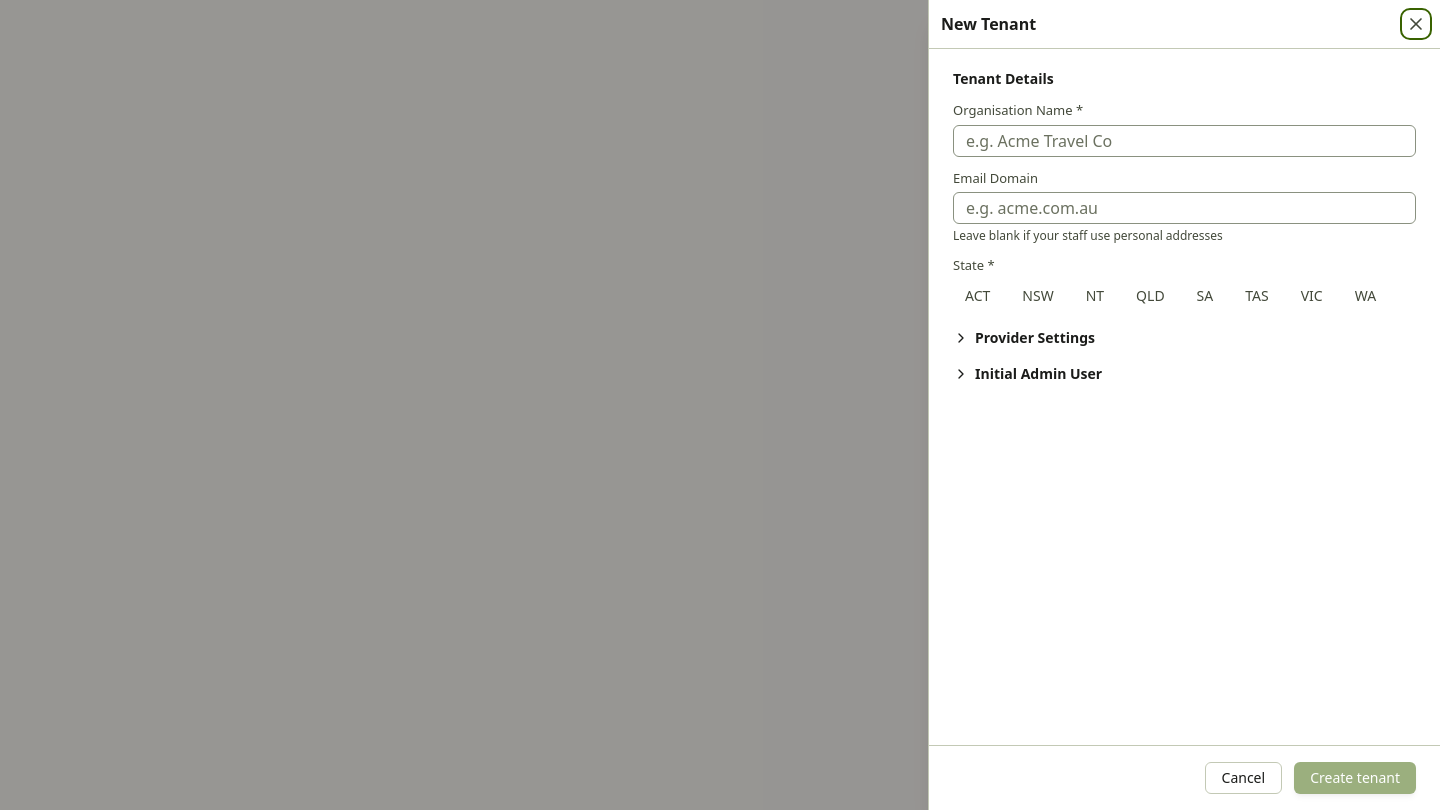
Test case: TenantFormPanel: the first user's password › will not create with a typed password under 12 characters, and says so
Type "Brightside Care" into the field with placeholder "e.g. Acme Travel Co" at (1184, 140), box x1=953 y1=124 x2=1416 y2=156
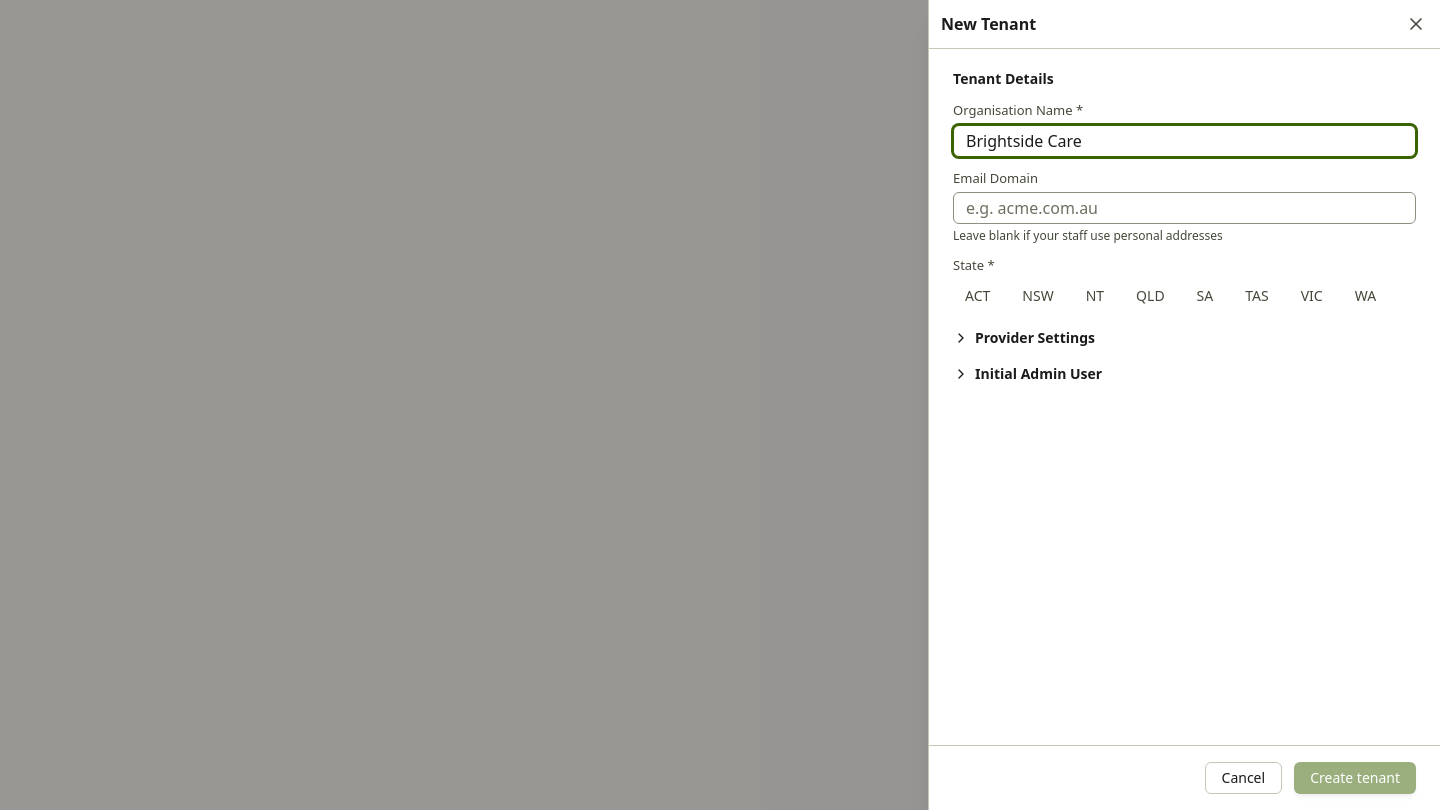
Type "brightside.example.com" into the field with placeholder "e.g. acme.com.au" at (1184, 208), box x1=953 y1=192 x2=1416 y2=224
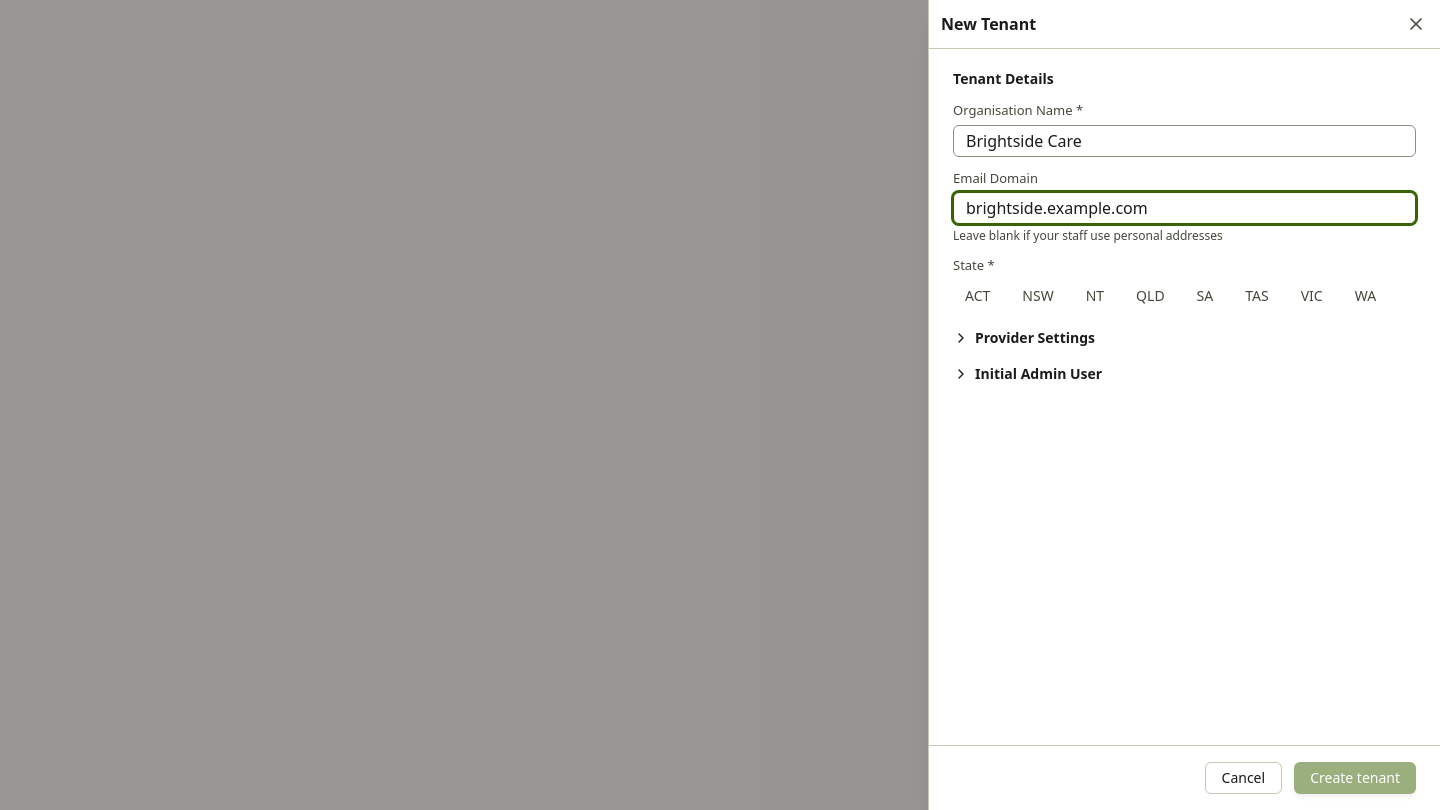
Click the radio button labelled "NSW" at (1038, 296), box x1=1010 y1=280 x2=1066 y2=312
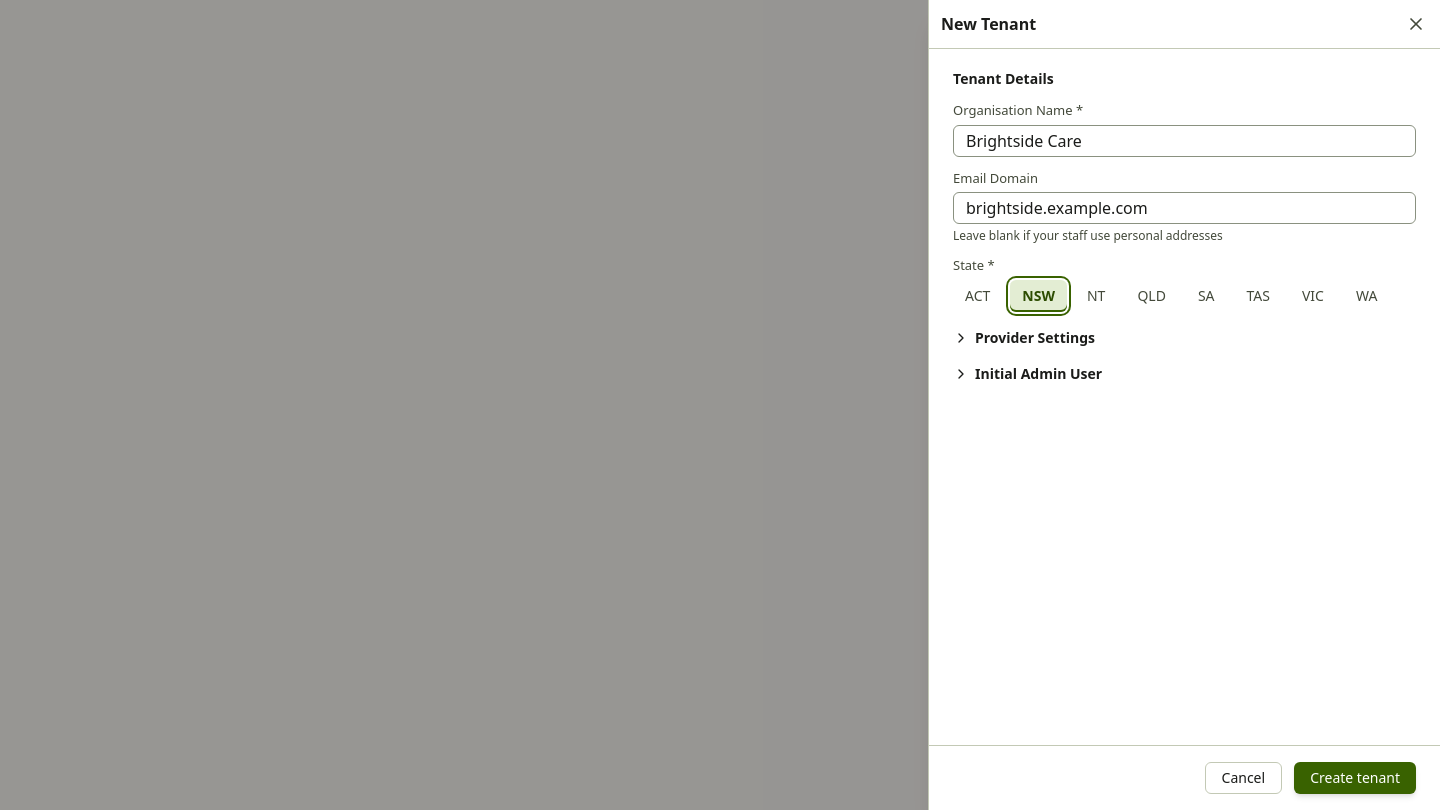
Click the button "Initial Admin User" at (1028, 374), box x1=953 y1=364 x2=1102 y2=384
(page scrolled)
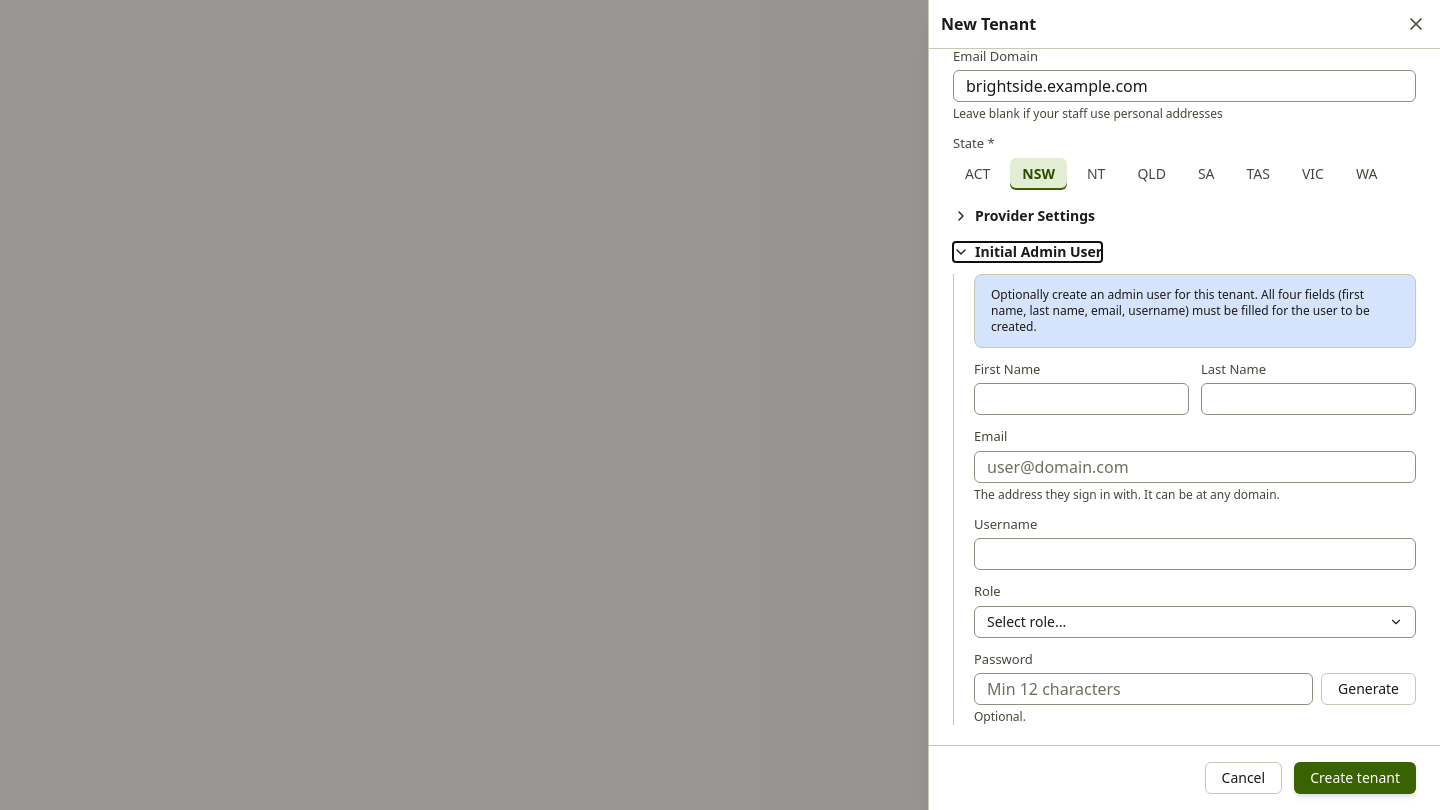
Type "abcdefghijk" into the field labelled "Password" at (1144, 689), box x1=974 y1=673 x2=1313 y2=705
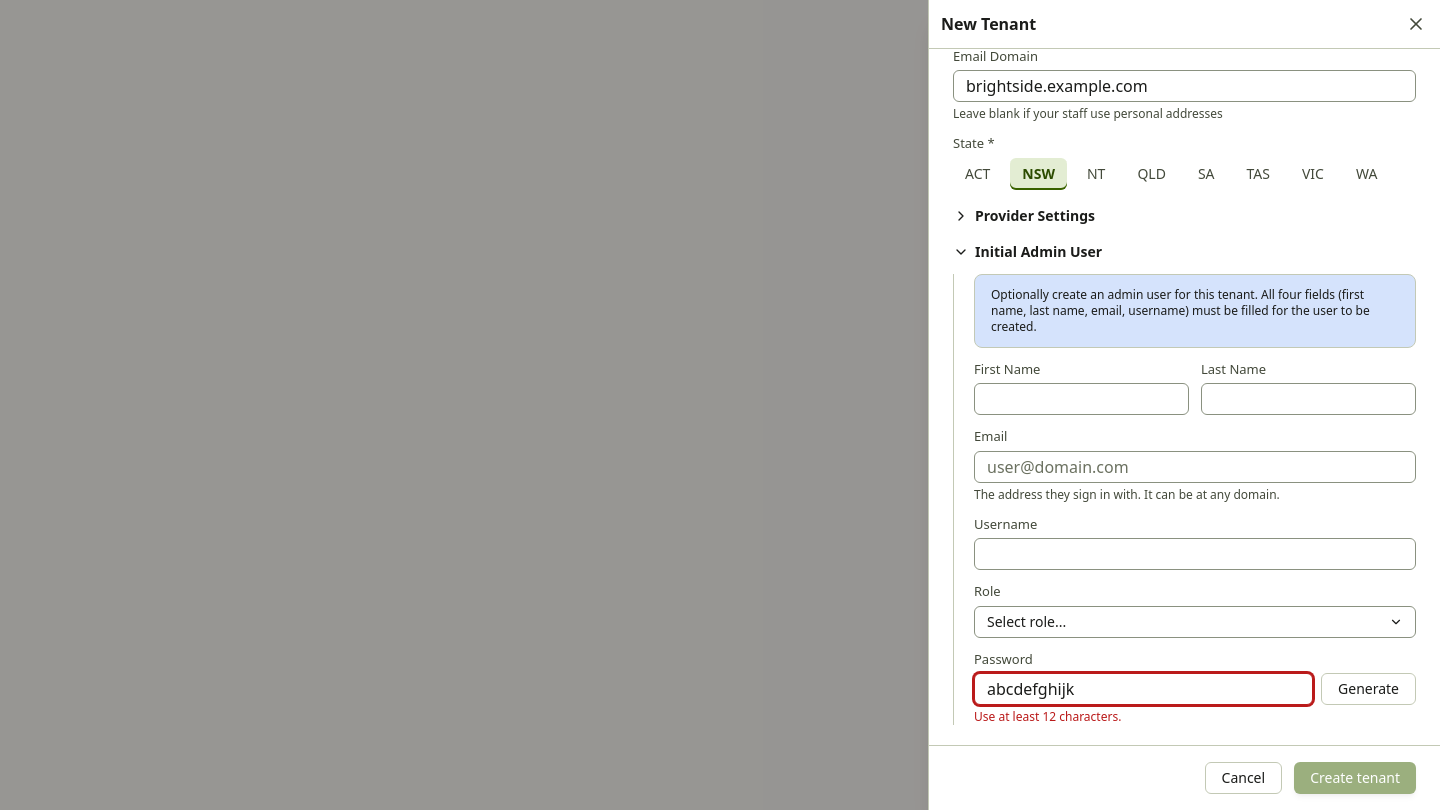
expect the button "Create tenant" is disabled: met, box x1=1294 y1=762 x2=1416 y2=794
expect the text "Use at least 12 characters." is shown: met, box x1=974 y1=708 x2=1121 y2=725
Type "l" into the field labelled "Password" at (1144, 689), box x1=974 y1=673 x2=1313 y2=705
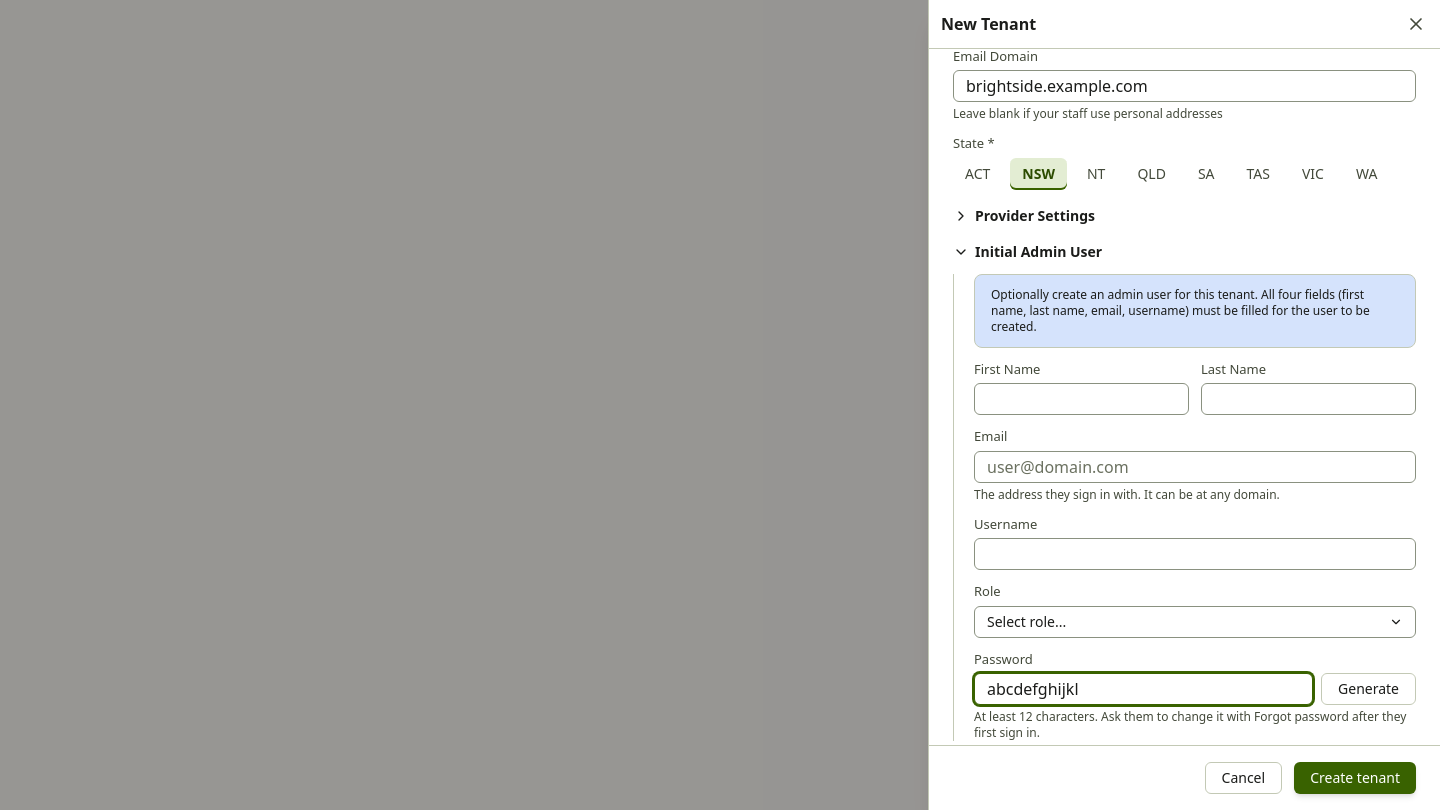
expect the button "Create tenant" is enabled: met, box x1=1294 y1=762 x2=1416 y2=794
expect the text "Use at least 12 characters." is gone: met
expect the text "At least 12 characters. Ask them to change it with Forgot password after they first sign in." is shown: met, box x1=974 y1=708 x2=1406 y2=741
